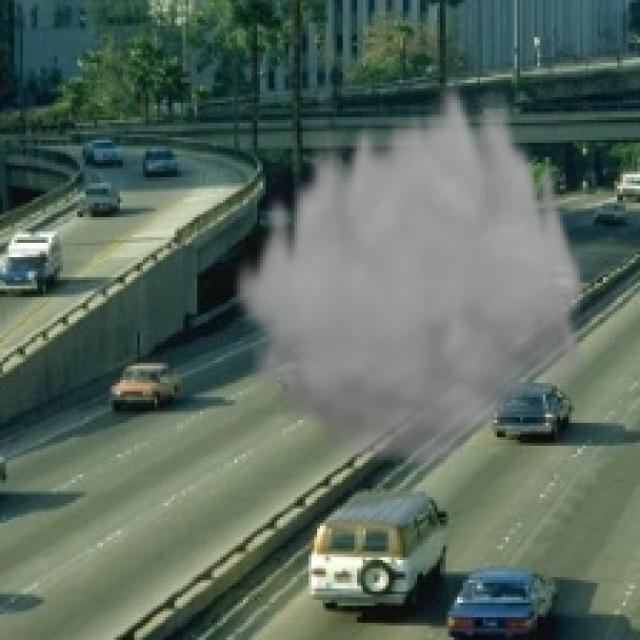smoke: (228, 66, 588, 477)
